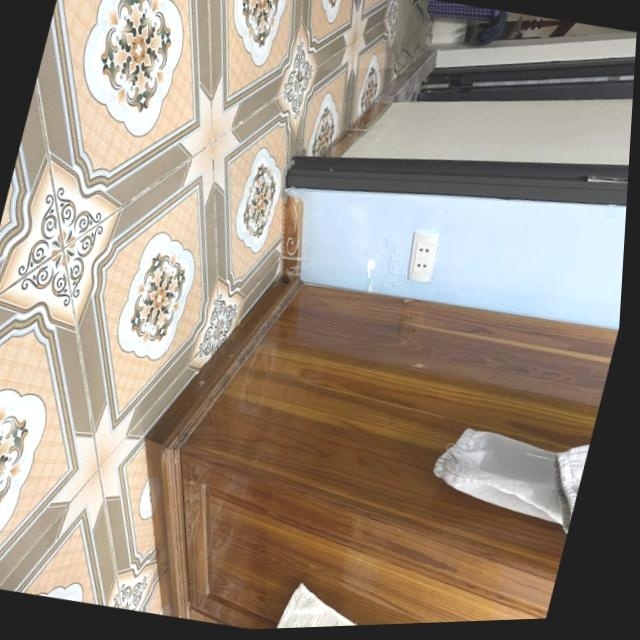outlet: (401, 228, 443, 284)
